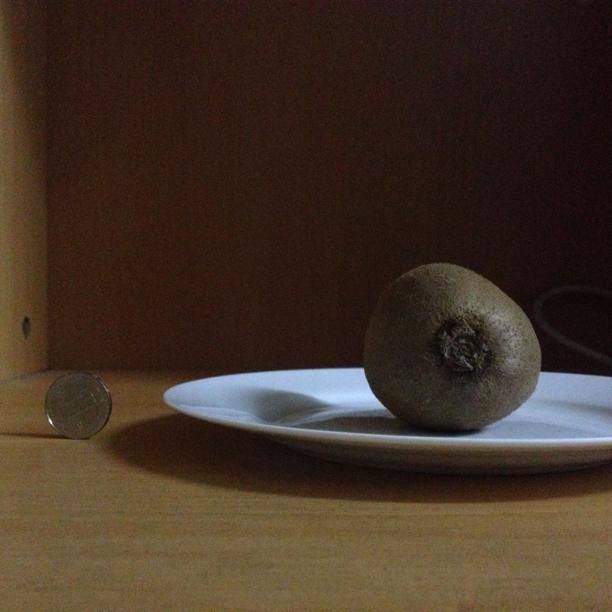coin: (44, 372, 113, 440)
qiwi: (365, 261, 542, 432)
